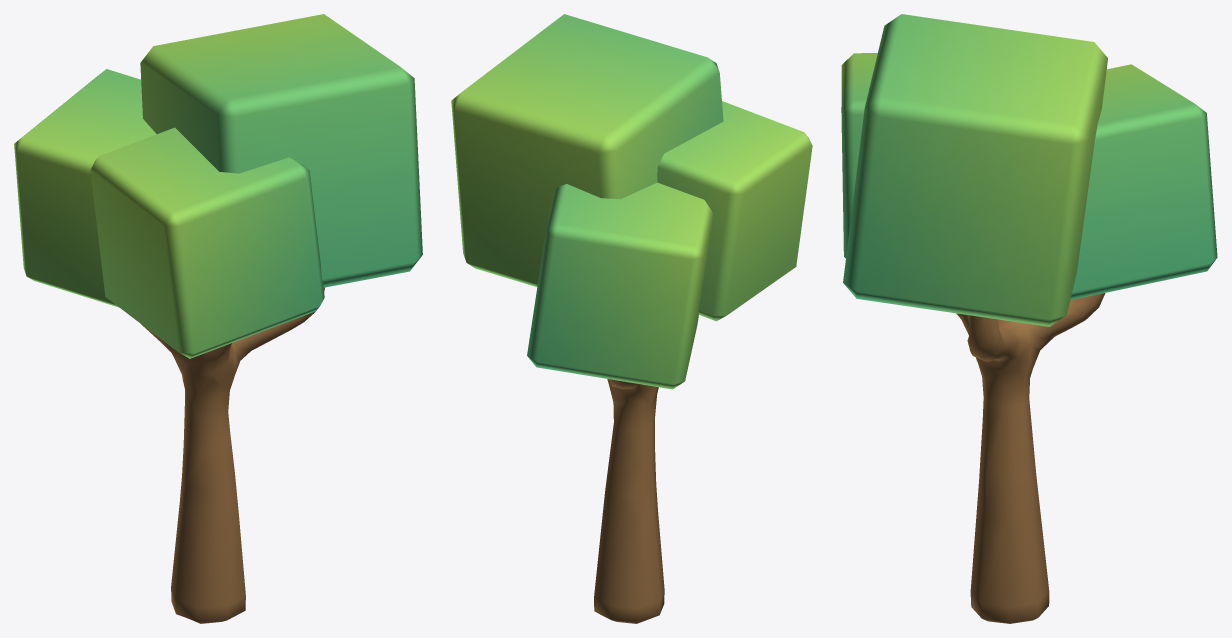
Rendered from tree.glb.
The picture shows the model from 3 angles, left to right: view 1: azimuth 30°, elevation 25°; view 2: azimuth 150°, elevation 25°; view 3: azimuth 270°, elevation 25°; orthographic projection. The views are drawn at different scales.
Visible parts, largest first — view 1: tree; view 2: tree; view 3: tree.
Part boxes in pixels (x1=…): tree: x1=14, y1=14, x2=422, y2=623; tree: x1=451, y1=14, x2=812, y2=623; tree: x1=841, y1=14, x2=1217, y2=623.
Size of the model in its own units: 2.56 by 4.65 by 2.71.
1 material, 1 textured.
